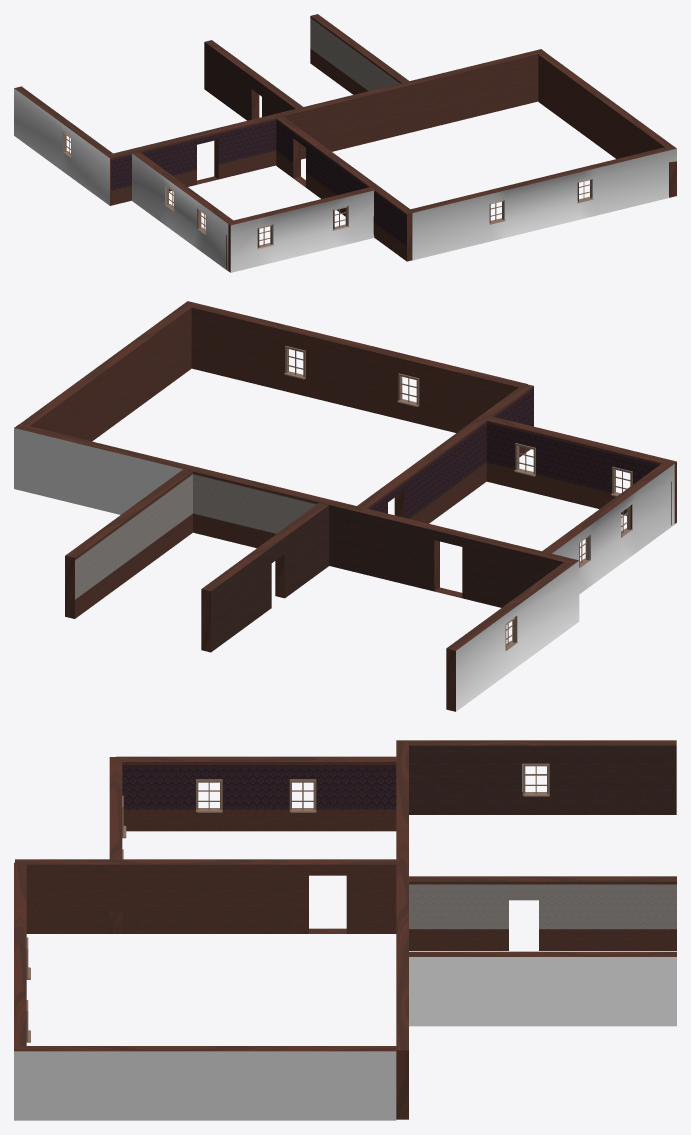
Rendered from Windows.fbx.
The picture shows the model from 3 angles, top to bottom: view 1: azimuth 30°, elevation 25°; view 2: azimuth 150°, elevation 25°; view 3: azimuth 270°, elevation 25°; orthographic projection. The views are drawn at different scales.
Parts seen in each view (by area): view 1: wall, wall__1_, wall__1__1, Wall__3__1, Wall__5_, Wall__3_, Wall__4__2, Wall__1_, Wall__2_, Windows; view 2: wall, wall__1_, Wall__3__1, wall__1__1, Wall__3_, Wall__1_, Wall__2_, Wall__5_, Wall__4__2, Windows; view 3: Wall__3__1, Wall__5_, Wall__1_, Wall__3_, Wall__4__2, Wall__2_, wall, wall__1_, Windows, wall__1__1.
Part boxes in pixels (x1,y1,x2,y2): wall: (107,49,545,205); wall__1_: (411,147,676,260); wall__1__1: (226,187,374,272); Wall__3__1: (538,52,676,197); Wall__5_: (276,116,413,261); Wall__3_: (14,86,112,205); Wall__4__2: (132,152,235,271); Wall__1_: (310,14,409,94); Wall__2_: (204,40,305,159); Windows: (62,131,593,249); wall: (14,424,577,607); wall__1_: (191,303,527,432); Wall__3__1: (20,301,196,441); wall__1__1: (486,416,676,525); Wall__3_: (446,560,579,711); Wall__1_: (65,469,192,618); Wall__2_: (201,503,328,652); Wall__5_: (357,383,533,523); Wall__4__2: (542,461,674,593); Windows: (284,345,632,650); Wall__3__1: (14,1046,396,1120); Wall__5_: (15,859,396,933); Wall__1_: (409,951,676,1026); Wall__3_: (396,740,676,814); Wall__4__2: (116,756,396,831); Wall__2_: (409,876,676,950); wall: (396,741,408,1119); wall__1_: (14,862,26,1045); Windows: (26,763,549,1042); wall__1__1: (109,757,122,933).
Size of the model in its own units: 57.61 by 6.06 by 52.02.
